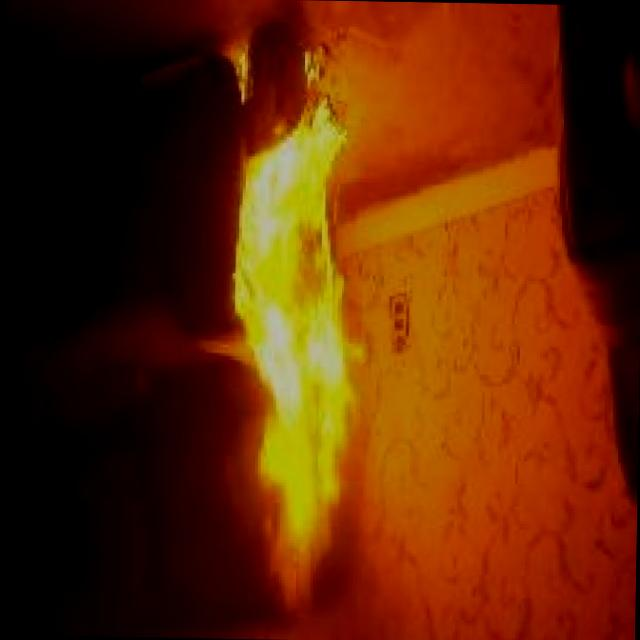fire: (236, 102, 368, 618)
